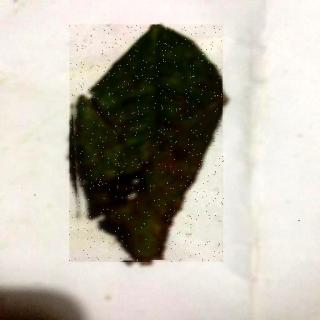Red Leaf Spot: (71, 26, 225, 263)
